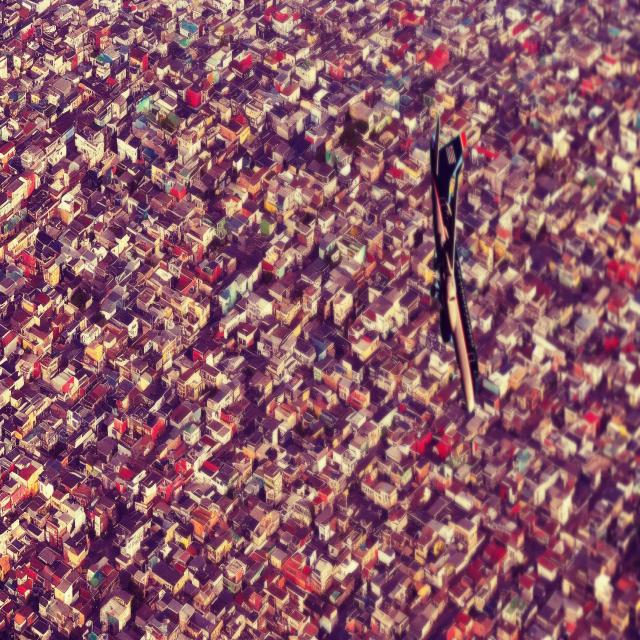airplane: (426, 112, 479, 414)
